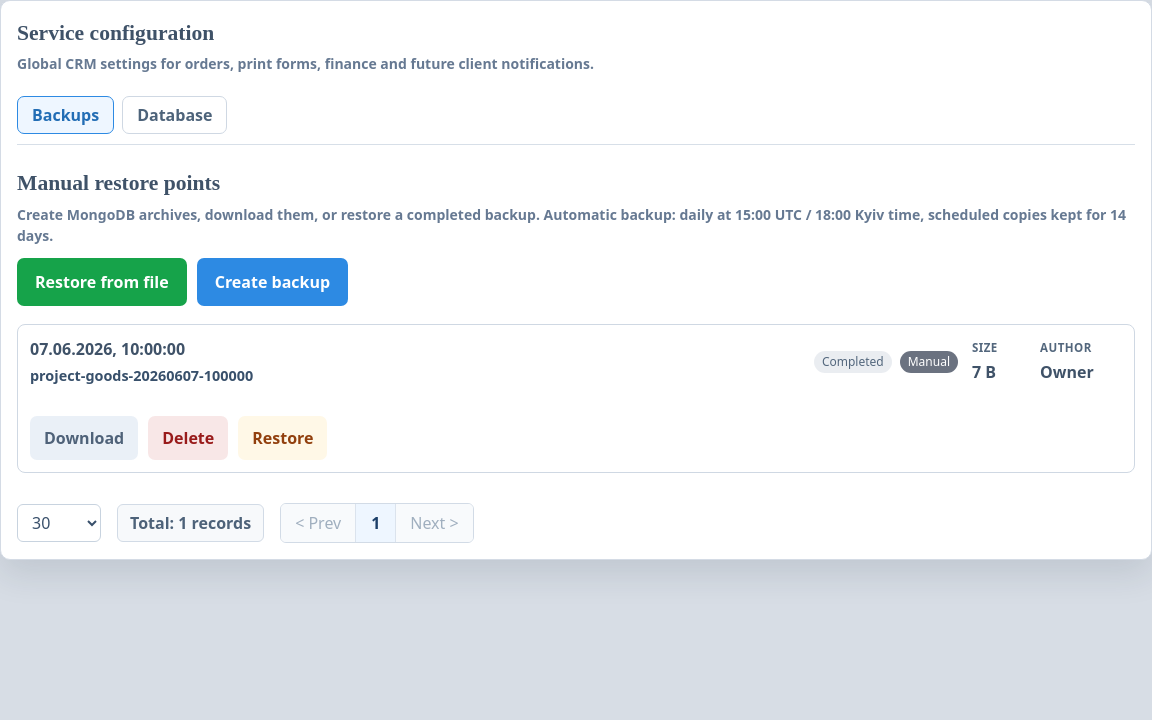
Test: SettingsPanel › requires delete confirmation before deleting a backup
This screenshot has width=1152, height=720.
Click the button "Delete": [188, 438] box [148,416,228,460]
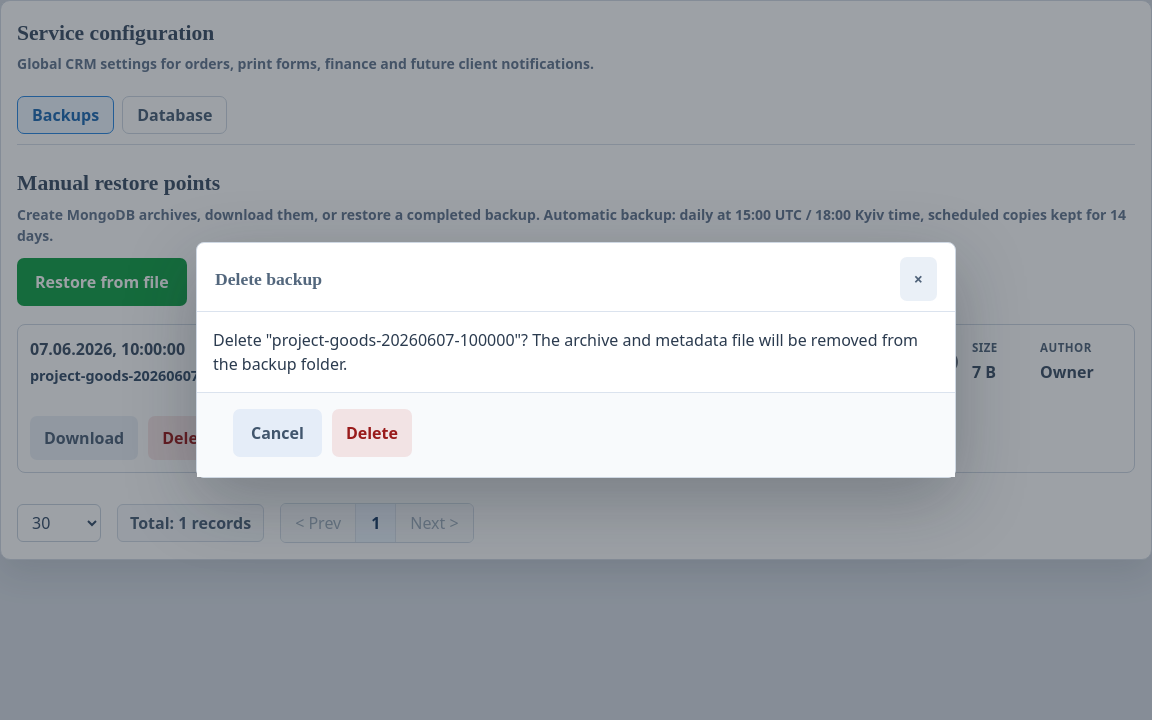
Click the button "Delete": [372, 433] box [332,409,412,457]
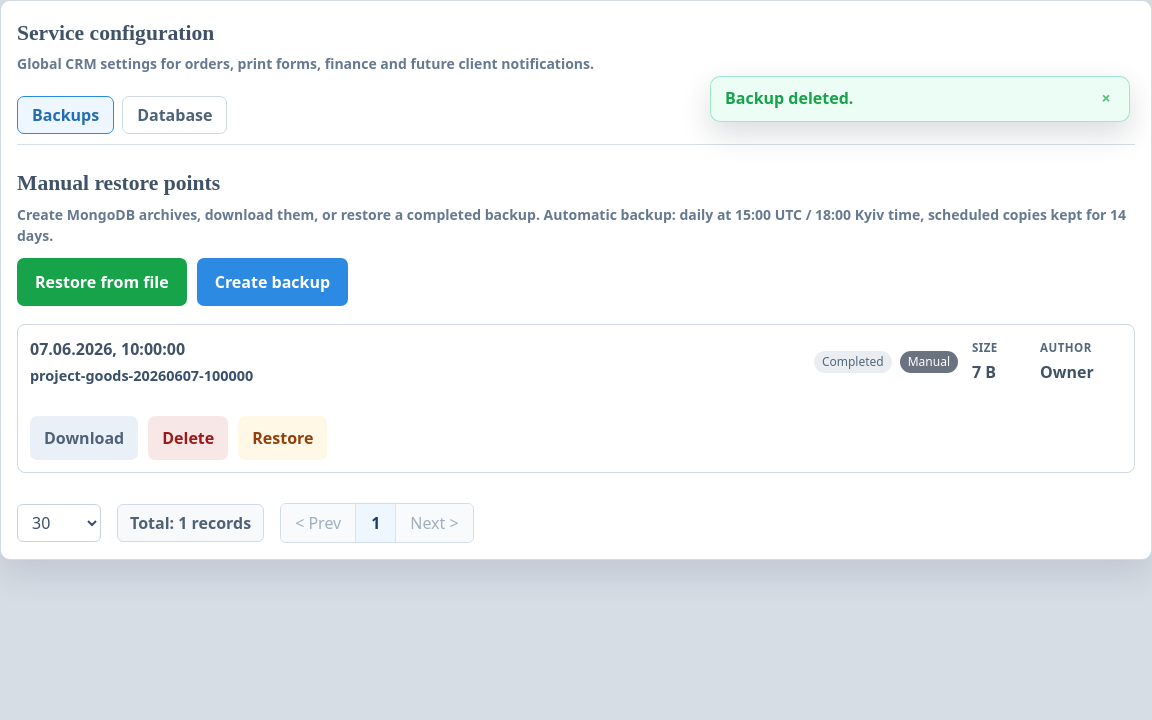
Result: the text "Backup deleted." is shown at [725,88,853,110]
